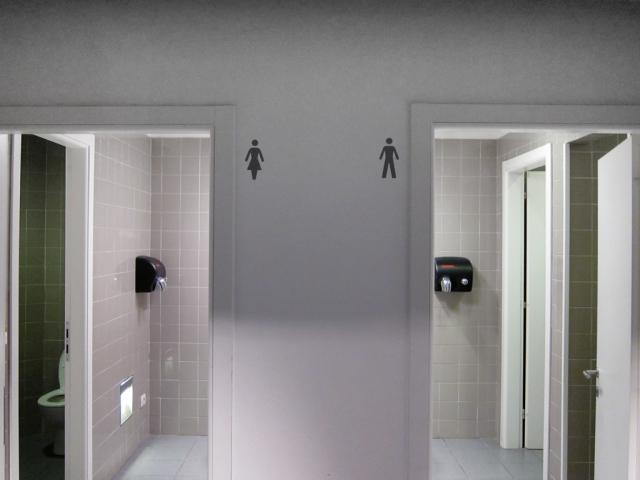Door-handle: (582, 365, 602, 380)
